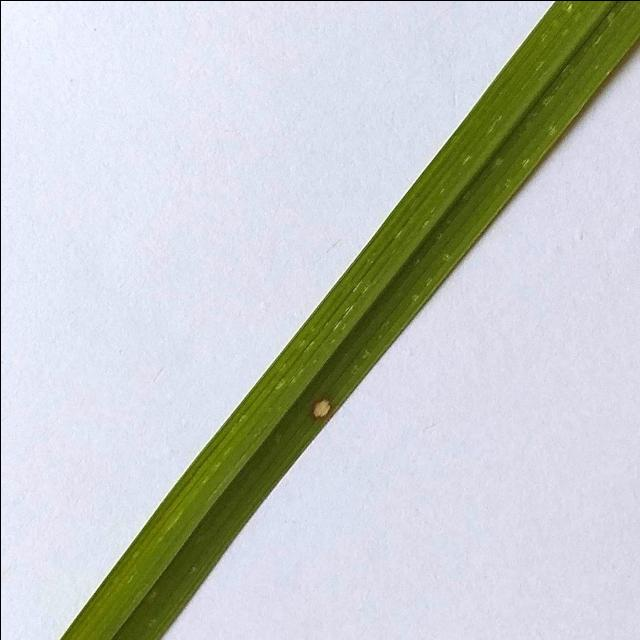Leaf blast: (300, 382, 334, 426)
